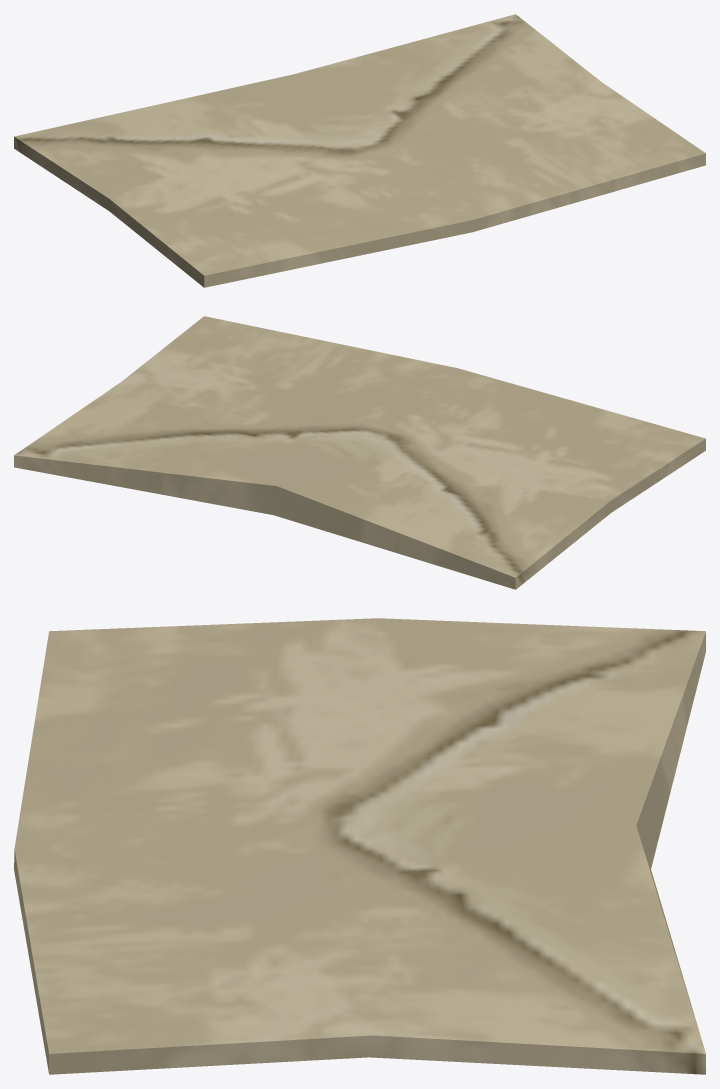
Rendered from SM_PROP_letter_city.fbx.
The picture shows the model from 3 angles, top to bottom: view 1: azimuth 30°, elevation 25°; view 2: azimuth 150°, elevation 25°; view 3: azimuth 270°, elevation 25°; orthographic projection. The views are drawn at different scales.
Parts seen in each view (by area): view 1: SM_PROP_letter_city; view 2: SM_PROP_letter_city; view 3: SM_PROP_letter_city.
Part boxes in pixels (bbox=[...]): SM_PROP_letter_city: bbox=[14, 14, 705, 287]; SM_PROP_letter_city: bbox=[14, 316, 705, 589]; SM_PROP_letter_city: bbox=[14, 618, 705, 1074].
Size of the model in its own units: 29.69 by 1.46 by 20.54.
